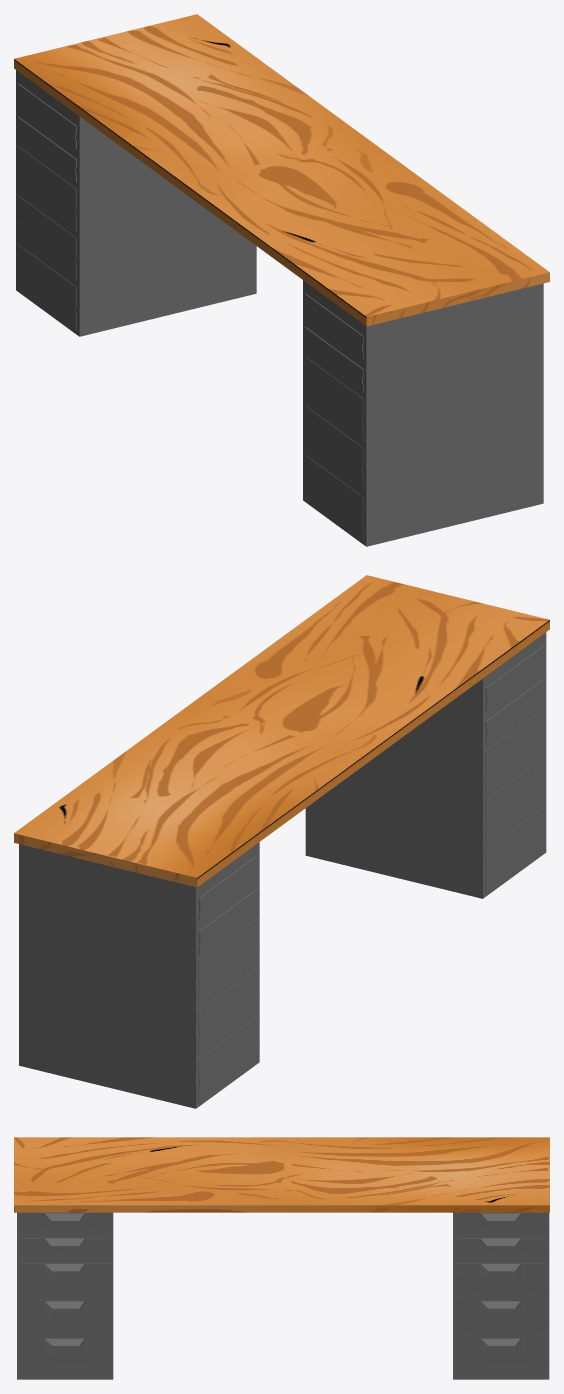
Rendered from Bureau.fbx.
3 renders of one model, top to bottom at view 1: azimuth 30°, elevation 25°; view 2: azimuth 150°, elevation 25°; view 3: azimuth 270°, elevation 25°, orthographic. The views are drawn at different scales.
Parts seen in each view (by area): view 1: Planche, Meuble, Meuble001; view 2: Planche, Meuble001, Meuble; view 3: Planche, Meuble, Meuble001.
Part boxes in pixels (x1,y1,x2,y2): Planche: (14,14,549,326); Meuble: (303,280,543,546); Meuble001: (16,70,256,336); Planche: (14,575,549,887); Meuble001: (19,842,259,1108); Meuble: (305,632,546,898); Planche: (14,1137,549,1212); Meuble: (17,1212,113,1379); Meuble001: (453,1212,549,1379).
Bounding box in the file's own units: 23.62 × 28.53 × 78.74.
2 materials, 1 textured.
